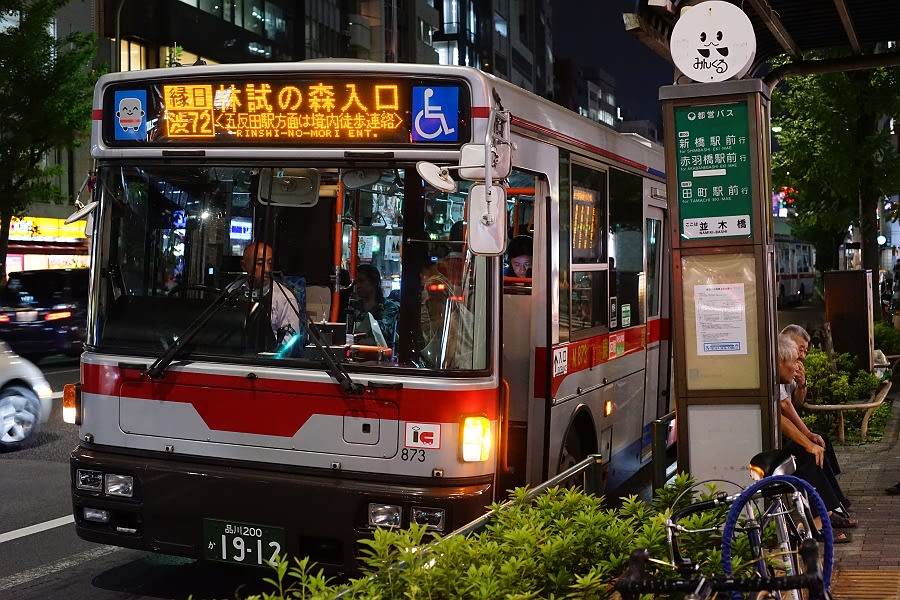destination: (150, 78, 409, 142)
